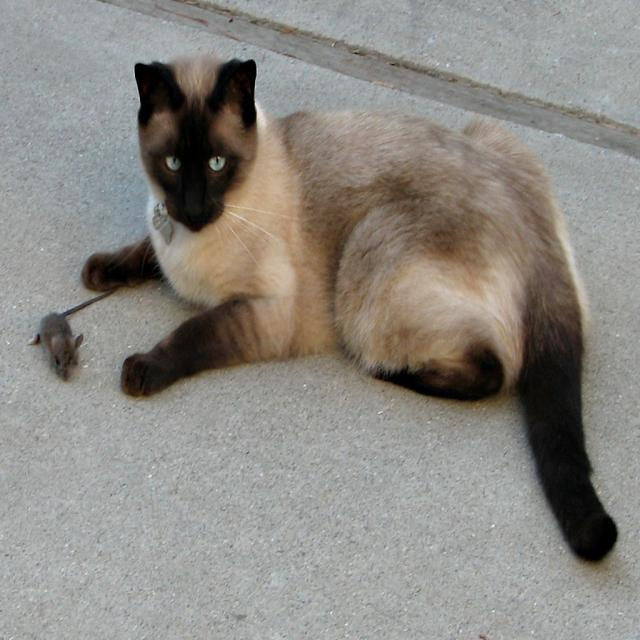Cat: (82, 52, 618, 561)
